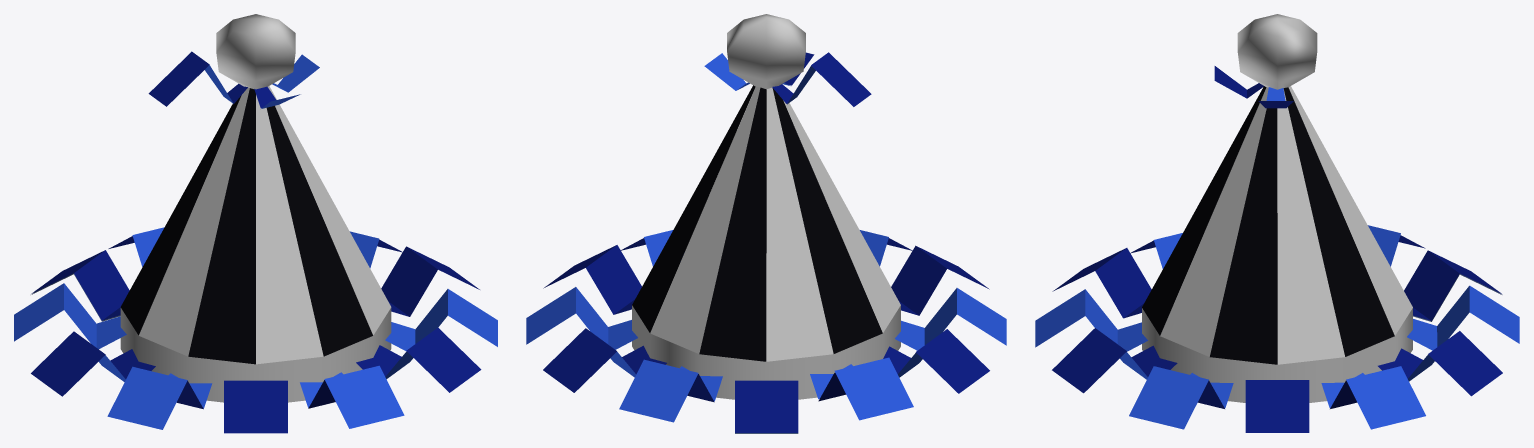
File: hat_party2024.glb
3 views of the same model, side by side, from view 1: azimuth 30°, elevation 25°; view 2: azimuth 150°, elevation 25°; view 3: azimuth 270°, elevation 25° (orthographic).
Visible parts, largest first — view 1: hat_party2024; view 2: hat_party2024; view 3: hat_party2024.
Part boxes in pixels (x1,y1,x2,y2): hat_party2024: (14,14,497,433); hat_party2024: (526,14,1006,433); hat_party2024: (1035,14,1519,432).
Bounding box in the file's own units: 0.3336 × 0.2512 × 0.3336.
